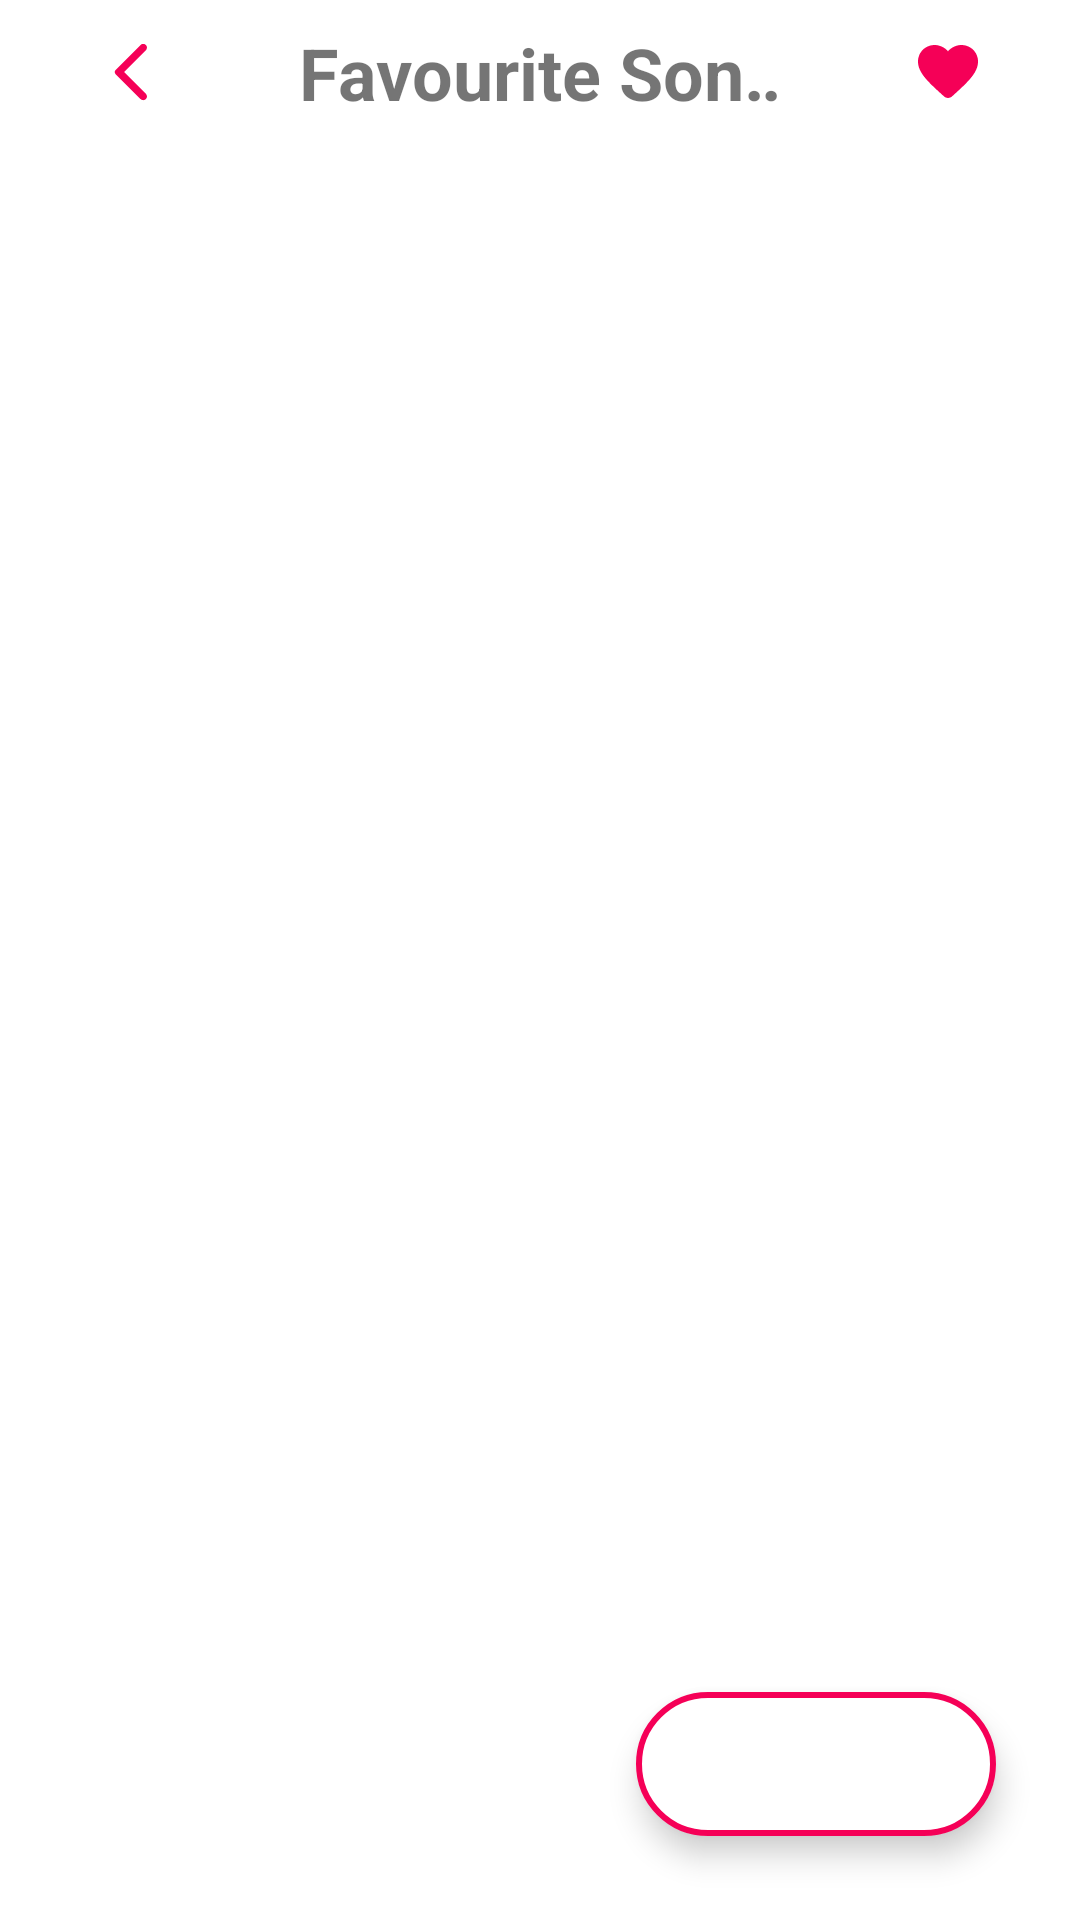

Named icons in this screenshot (1080 x 1920) and their centers, [x,y]:
arrow back: [130,72]
